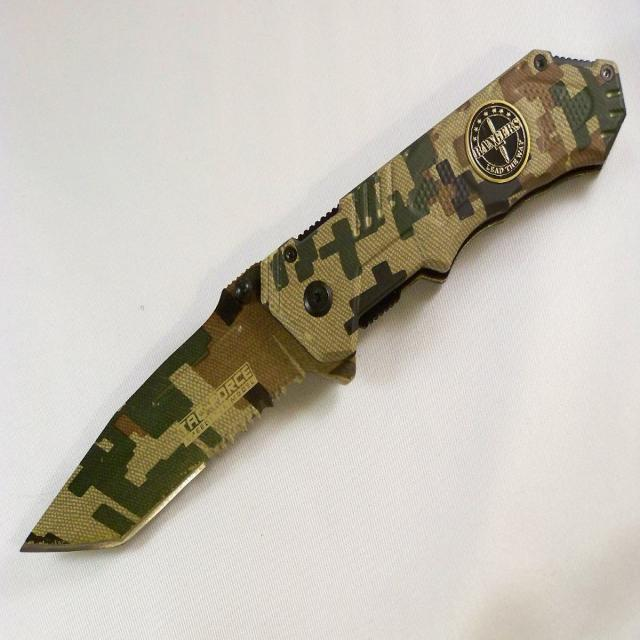knife: (17, 44, 630, 586)
